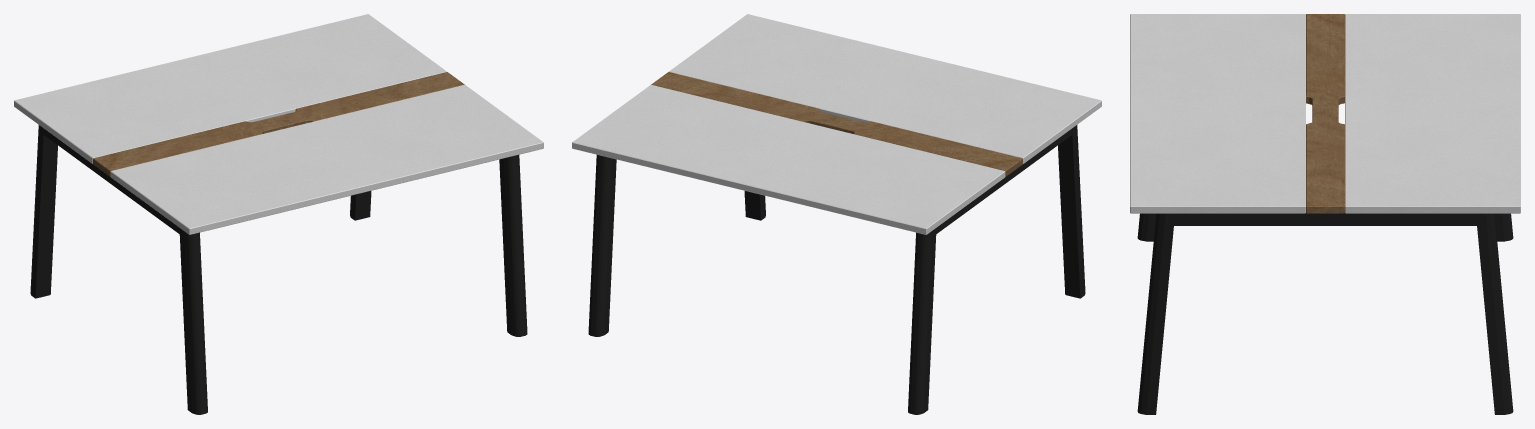
Rendered from R8Desk.gltf.
3 renders of one model, left to right at view 1: azimuth 30°, elevation 25°; view 2: azimuth 150°, elevation 25°; view 3: azimuth 270°, elevation 25°, orthographic. The views are drawn at different scales.
Visible parts, largest first — view 1: Solid1.001, Solid1, Solid2, Solid1.002, Solid2.001; view 2: Solid1, Solid1.001, Solid2, Solid1.002, Solid2.001; view 3: Solid1, Solid1.001, Solid2.001, Solid1.002, Solid2.
Part boxes in pixels (x1,y1,x2,y2): Solid1.001: [110, 85, 543, 234]; Solid1: [14, 14, 446, 163]; Solid2: [30, 125, 207, 414]; Solid1.002: [93, 72, 464, 176]; Solid2.001: [350, 155, 527, 336]; Solid1: [572, 85, 1005, 234]; Solid1.001: [669, 14, 1101, 163]; Solid2: [908, 125, 1085, 414]; Solid1.002: [651, 72, 1022, 176]; Solid2.001: [588, 155, 765, 336]; Solid1: [1345, 14, 1520, 213]; Solid1.001: [1130, 14, 1305, 213]; Solid2.001: [1137, 213, 1513, 414]; Solid1.002: [1306, 14, 1344, 213]; Solid2: [1137, 213, 1513, 241].
Size of the model in its own units: 1.4 by 0.725 by 1.2.
Materials: 3 (2 with a texture image).
